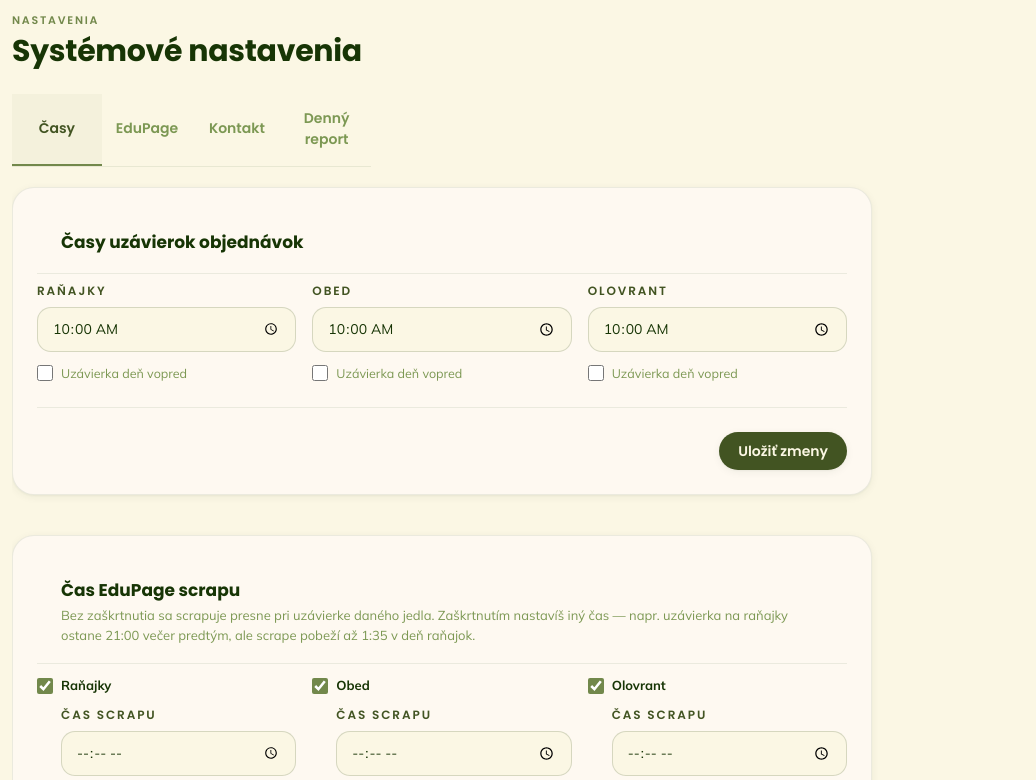
Test case: SystemSettings - Report Recipients Auto-Save › removes a recipient
Step 1. Click the button "Denný report" → (327, 130), box [282,94,372,166]
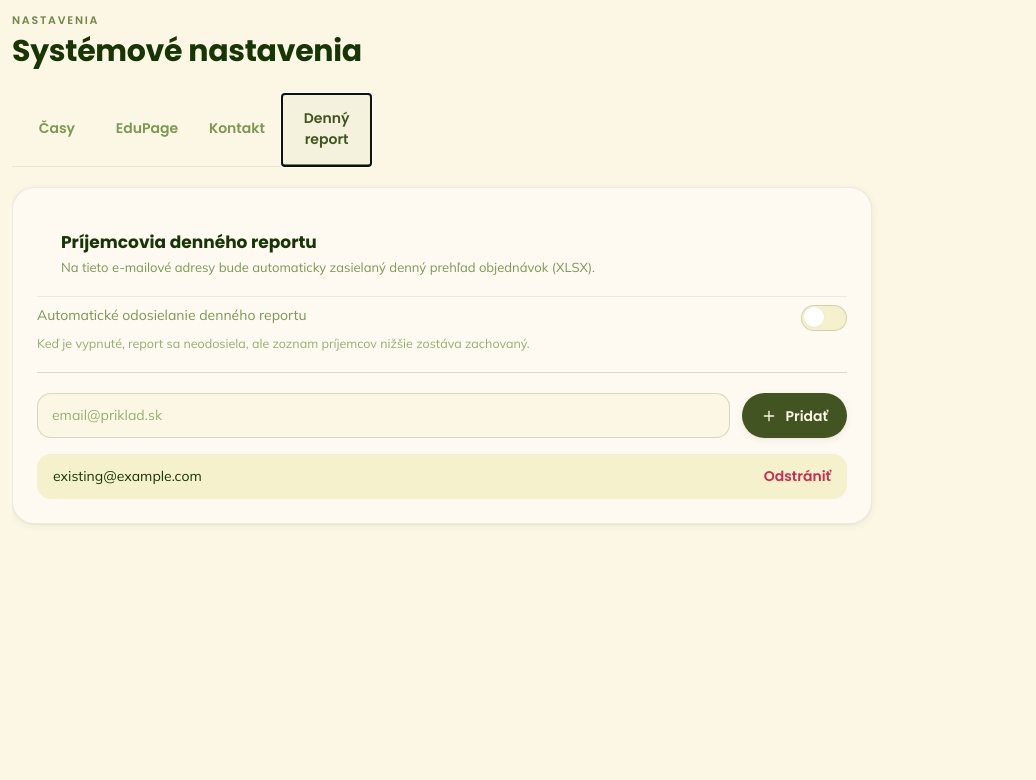
Check: the text "existing@example.com" is shown, box [53,466,202,487]
# Find and click remove button
Step 2. Click the button "Odstrániť" → (797, 477), box [764,466,831,487]
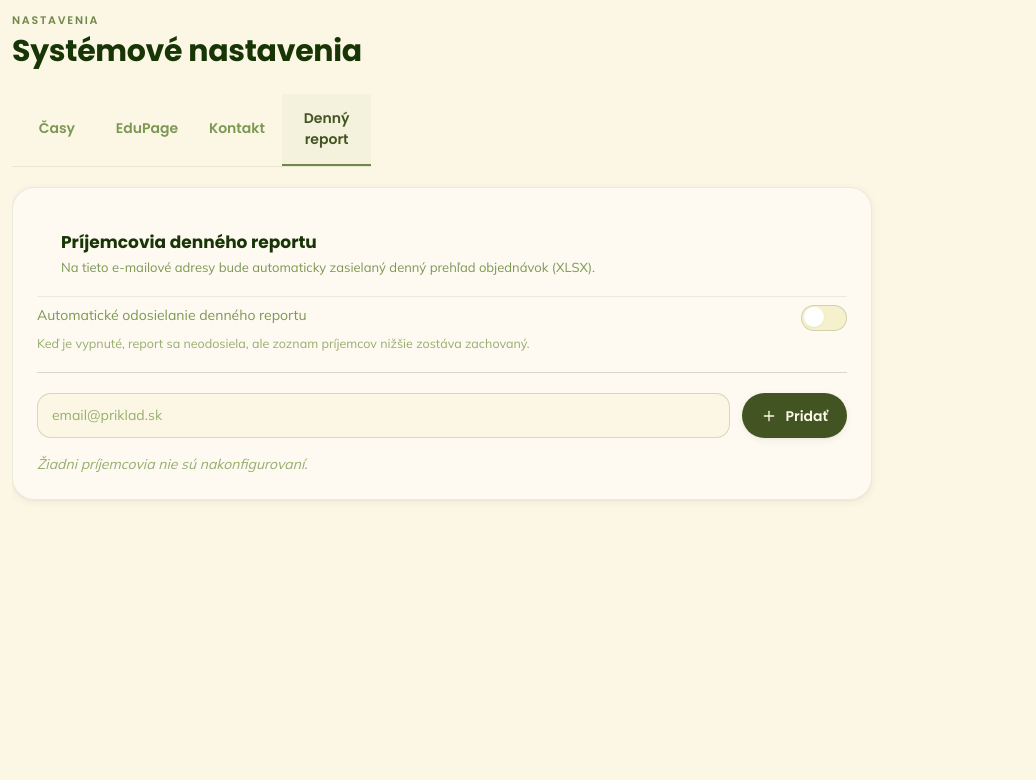
Check: the text "existing@example.com" is gone
